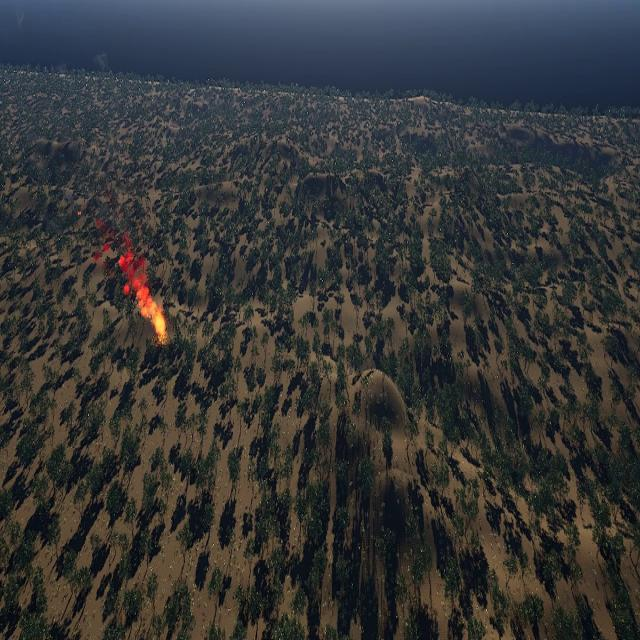fire: (155, 313, 167, 337), (77, 210, 82, 216)
smoke: (92, 187, 158, 314)
